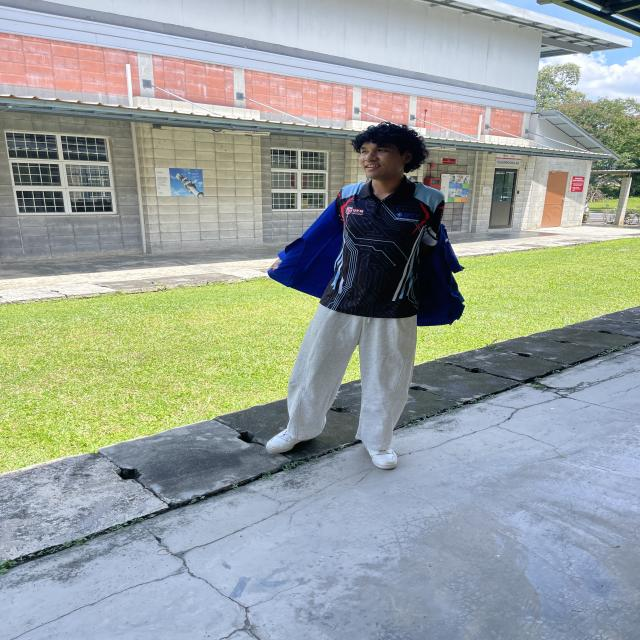person_without_labcoat: (266, 122, 444, 470)
